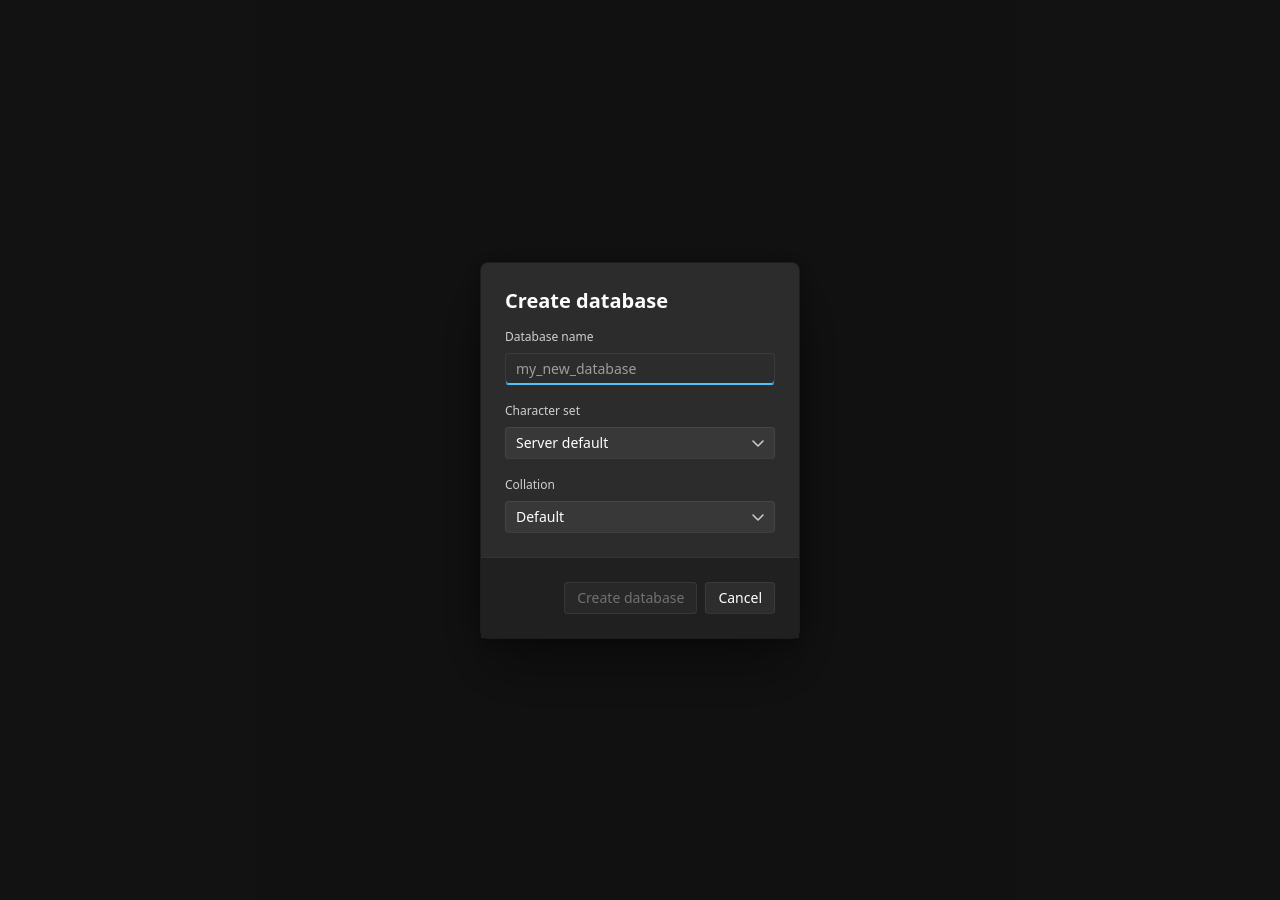
Test: CreateDatabaseDialog › shows error if backend fails
The width and height of the screenshot is (1280, 900).
Type "existing_db" into the field with test id "create-db-name-input".
click(640, 368); type("existing_db")  # box [505,352,775,384]
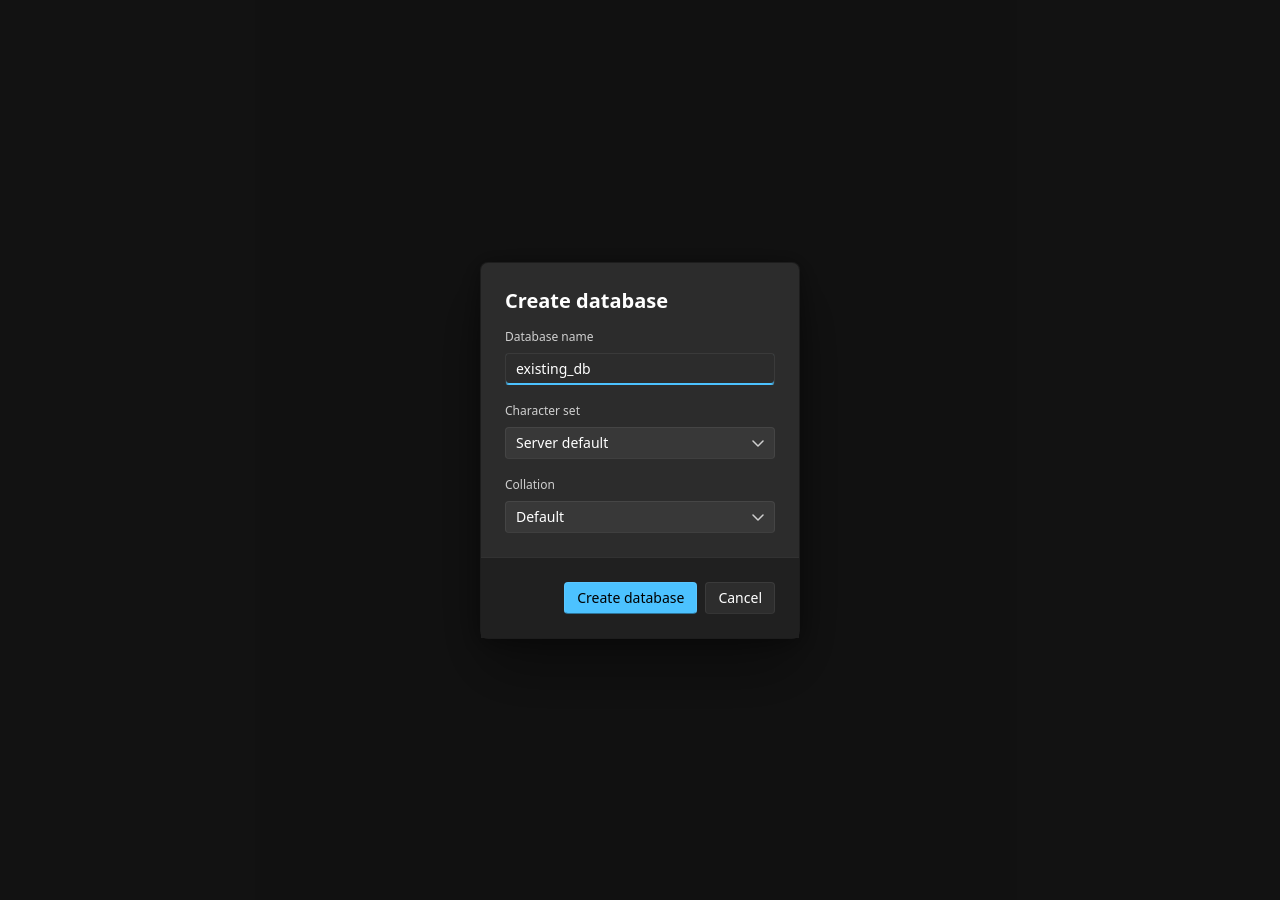
Click the button with test id "create-db-submit-button".
click(631, 598)  # box [564,582,697,614]
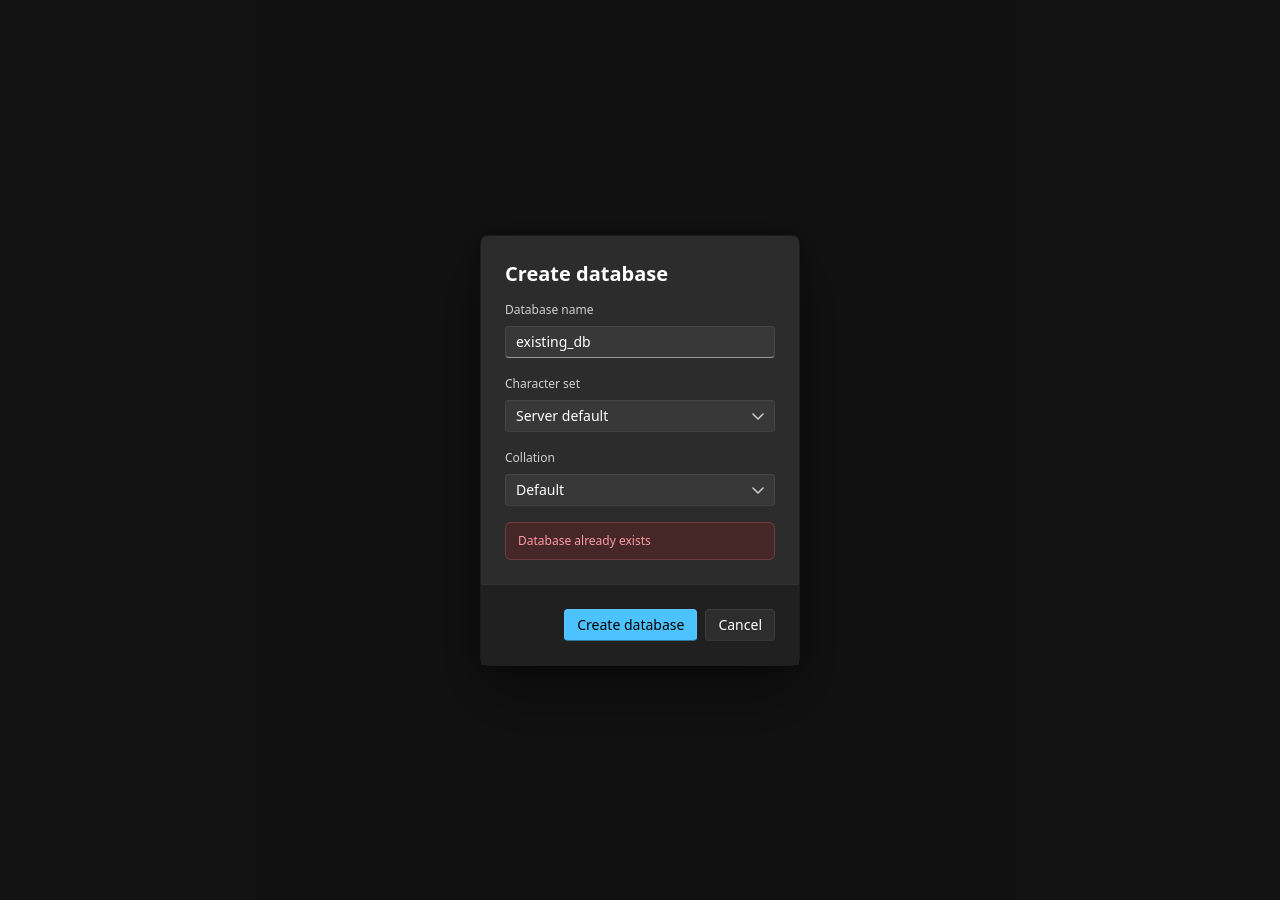
Now the text with test id "create-db-error" reads "Database already exists", box [518,532,651,548]
